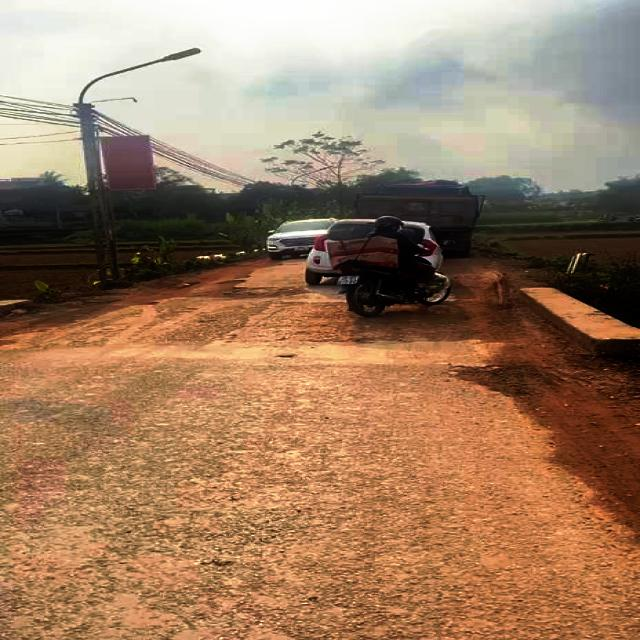pothole: (184, 279, 310, 301)
